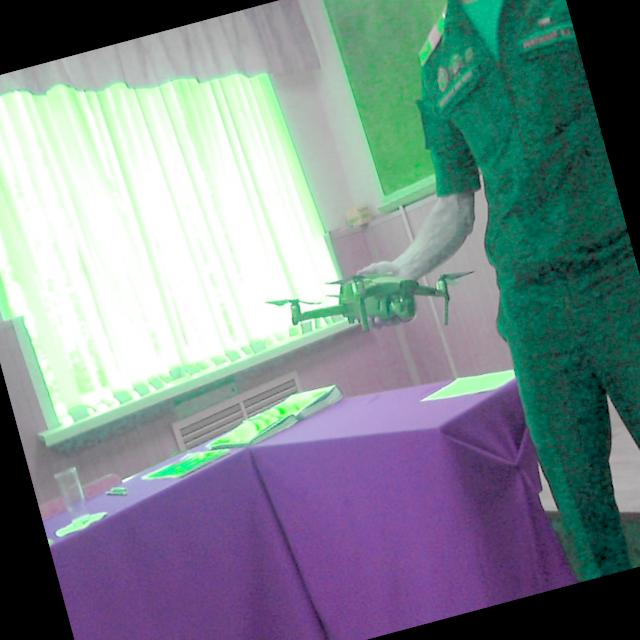drone: (257, 212, 483, 374)
